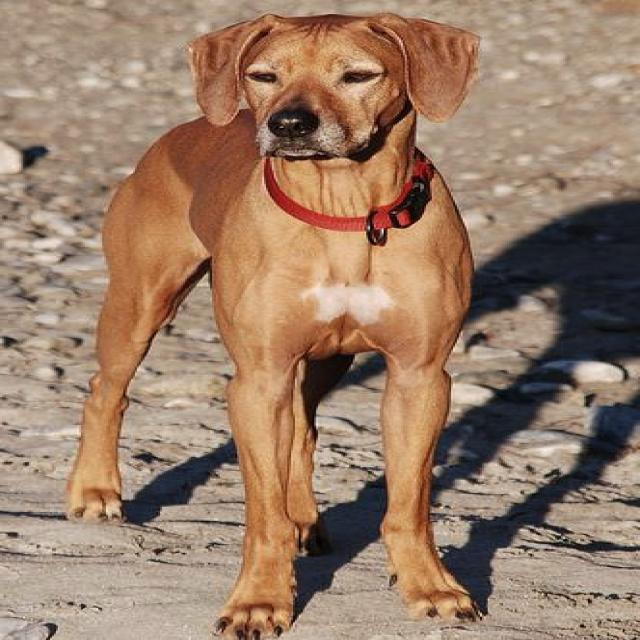rhodesian_ridgeback: (62, 9, 490, 637)
